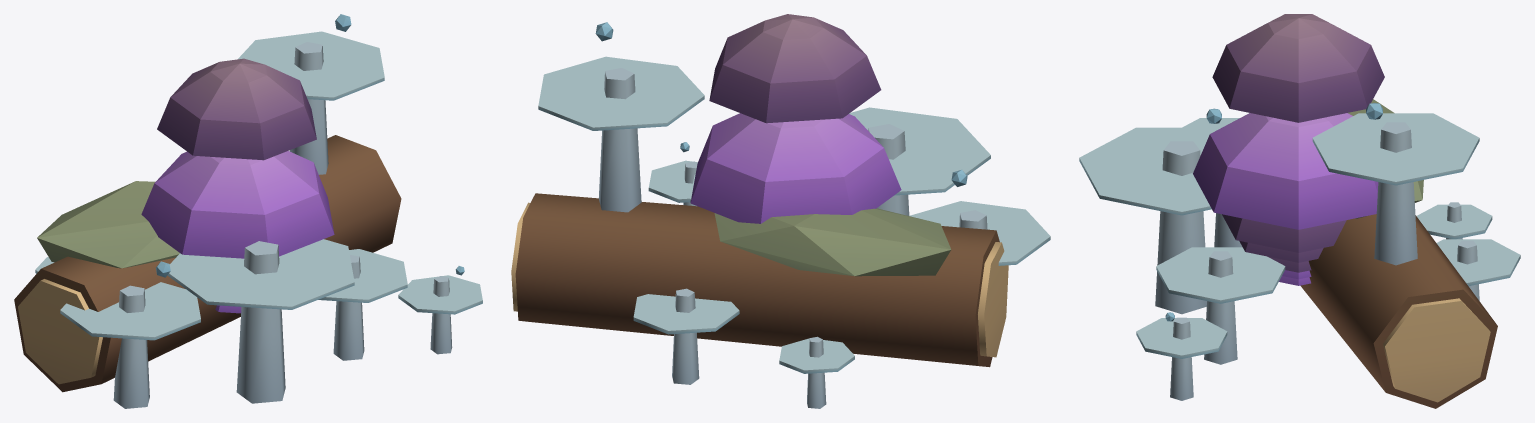
File: res_mushroom_gloom.glb
3 views of the same model, side by side, from view 1: azimuth 30°, elevation 25°; view 2: azimuth 150°, elevation 25°; view 3: azimuth 270°, elevation 25° (orthographic). The views are drawn at different scales.
Parts seen in each view (by area): view 1: res_mushroom_gloom; view 2: res_mushroom_gloom; view 3: res_mushroom_gloom.
Part boxes in pixels (x1,y1,x2,y2): res_mushroom_gloom: (14, 14, 482, 408); res_mushroom_gloom: (511, 14, 1050, 408); res_mushroom_gloom: (1079, 14, 1520, 408).
Bounding box in the file's own units: 3.79 × 2.56 × 3.4.
1 material, 1 textured.
